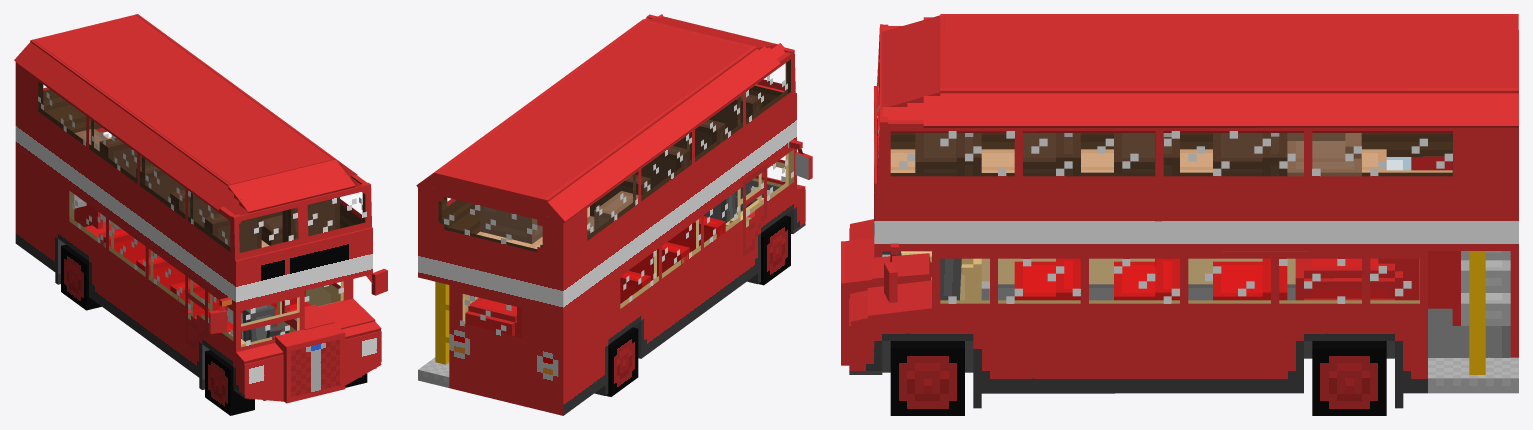
The model's file is routemaster.glb.
3 renders of one model, left to right at view 1: azimuth 30°, elevation 25°; view 2: azimuth 150°, elevation 25°; view 3: azimuth 270°, elevation 25°, orthographic. The views are drawn at different scales.
Parts seen in each view (by area): view 1: cube_48, cube_72, cube_36, cube_50, cube_30, cube_26, cube_43, cube_8, cube_45, cube_44, cube_38, cube_25 (+30 smaller); view 2: cube_48, cube_72, cube_40, cube_50, cube_36, cube_26, cube_39, cube_43, cube_47, cube_38, cube_149, cube_2 (+23 smaller); view 3: cube_48, cube_29, cube_59, cube_46, cube_41, cube_23, cube_6, cube_66, cube_45, cube_72, cube_67, cube_79 (+40 smaller).
Part boxes in pixels (x1,y1,x2,y2): cube_48: [30, 14, 335, 186]; cube_72: [15, 100, 240, 307]; cube_36: [89, 241, 206, 379]; cube_50: [14, 39, 230, 205]; cube_30: [240, 228, 368, 306]; cube_26: [15, 146, 233, 345]; cube_43: [15, 62, 234, 258]; cube_8: [272, 330, 345, 403]; cube_45: [228, 158, 355, 213]; cube_44: [231, 182, 371, 264]; cube_38: [15, 187, 62, 274]; cube_25: [233, 291, 304, 352]; cube_48: [433, 19, 757, 216]; cube_72: [558, 93, 796, 312]; cube_40: [449, 285, 558, 414]; cube_50: [540, 46, 774, 227]; cube_36: [636, 212, 760, 358]; cube_26: [558, 147, 793, 356]; cube_39: [423, 230, 558, 311]; cube_43: [558, 52, 793, 263]; cube_47: [423, 189, 558, 262]; cube_38: [558, 323, 608, 415]; cube_149: [606, 327, 638, 396]; cube_2: [759, 215, 790, 285]; cube_48: [940, 14, 1518, 93]; cube_29: [874, 180, 1518, 251]; cube_59: [973, 311, 1303, 393]; cube_46: [940, 88, 1518, 132]; cube_41: [882, 120, 1518, 183]; cube_23: [932, 251, 1427, 310]; cube_6: [890, 341, 964, 415]; cube_66: [1312, 341, 1386, 415]; cube_45: [881, 14, 945, 109]; cube_72: [874, 86, 1452, 156]; cube_67: [1428, 308, 1510, 374]; cube_79: [890, 149, 1386, 172].
Bounding box in the file's own units: 4.25 × 4.94 × 9.62.
1 material, 1 textured.
